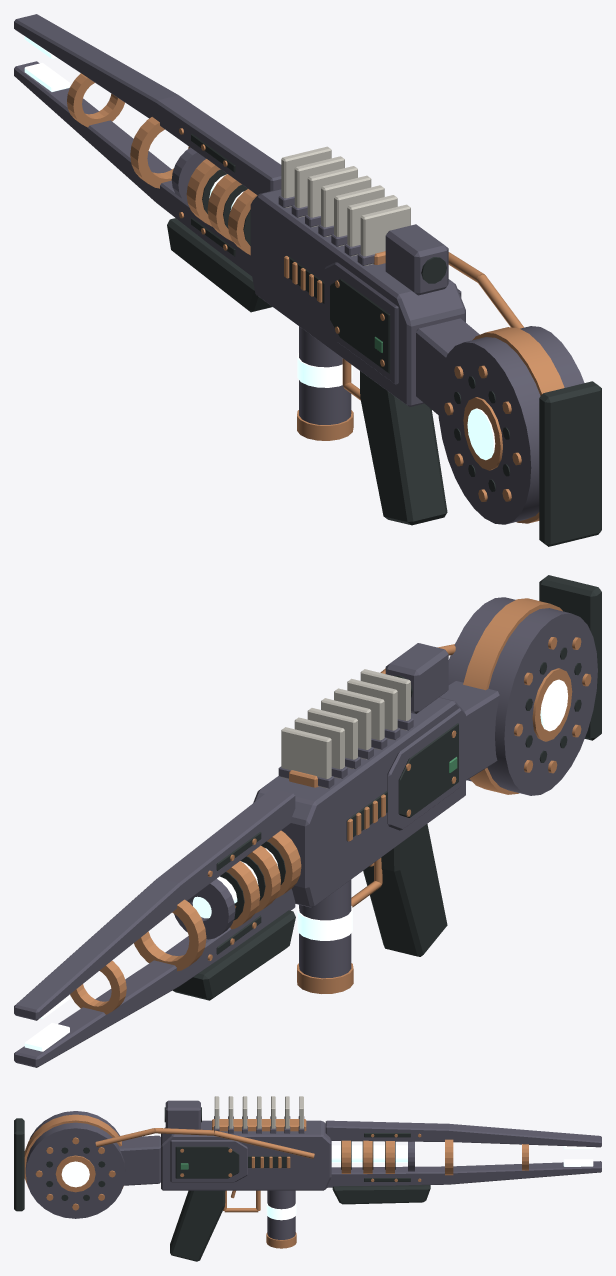
The model's file is laser_1.glb.
3 views of the same model, one above another, from view 1: azimuth 30°, elevation 25°; view 2: azimuth 150°, elevation 25°; view 3: azimuth 270°, elevation 25° (orthographic). The views are drawn at different scales.
Parts seen in each view (by area): view 1: Weapon_laser_v1; view 2: Weapon_laser_v1; view 3: Weapon_laser_v1.
Boxes of the visible parts, left/top/right/bottom form: Weapon_laser_v1: left=14, top=14, right=601, bottom=546; Weapon_laser_v1: left=14, top=575, right=601, bottom=1067; Weapon_laser_v1: left=14, top=1096, right=601, bottom=1261.
Bounding box in the file's own units: 0.085 × 0.2919 × 1.
